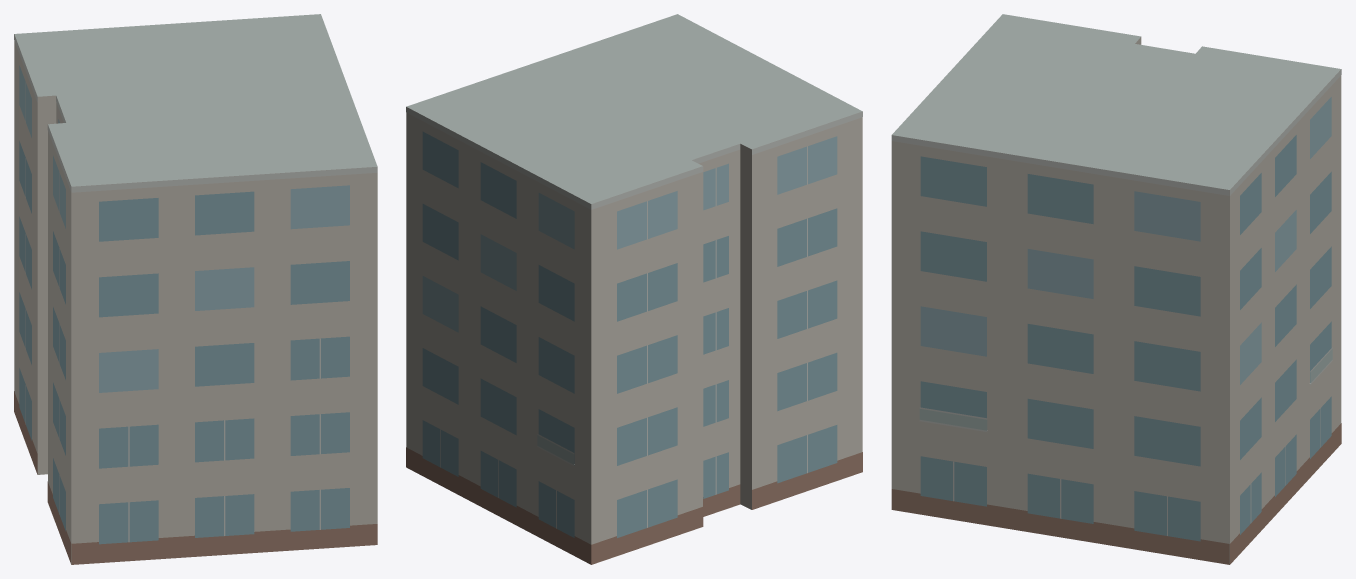
The model's file is survey-upis-32874369.glb.
3 renders of one model, left to right at view 1: azimuth 30°, elevation 25°; view 2: azimuth 150°, elevation 25°; view 3: azimuth 270°, elevation 25°, orthographic. The views are drawn at different scales.
Visible parts, largest first — view 1: survey-upis-32874369.tmp; view 2: survey-upis-32874369.tmp; view 3: survey-upis-32874369.tmp.
Part boxes in pixels (box(x1,y1,x2,y2)): survey-upis-32874369.tmp: box(14, 14, 377, 564); survey-upis-32874369.tmp: box(406, 14, 862, 564); survey-upis-32874369.tmp: box(891, 14, 1341, 564).
Size of the model in its own units: 15.43 by 15.3 by 16.65.
